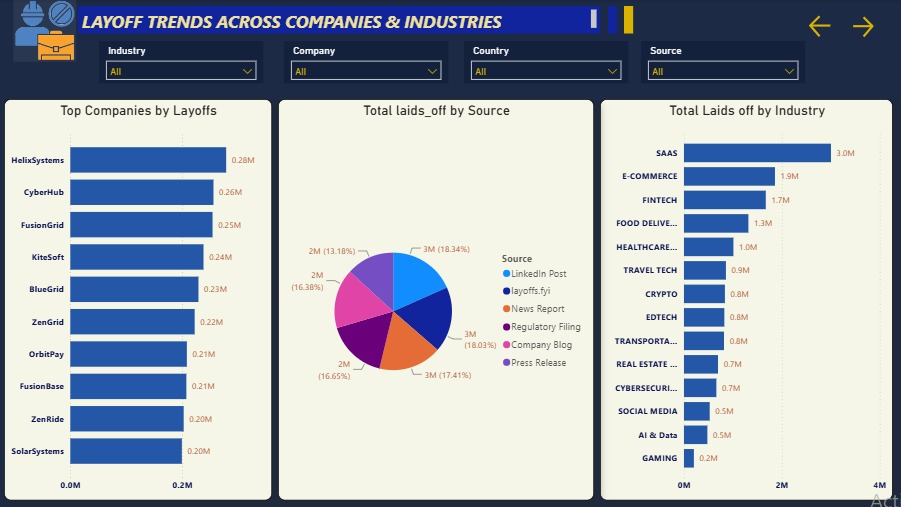

What the dashboard file says about the page in this screenshot:
{"tool":"powerbi","page":{"name":"PAGE 3","canvas":[1280,720],"ordinal":2},"visuals":[{"type":"clusteredBarChart","title":"Total Laids off by Industry","fields":{"Category":["tech_layoffs_dataset-1.Industry"],"Y":["tech_layoffs_dataset-1.Total laids_off"]},"box":[854.8,141.7,415.5,569.1],"z":0},{"type":"clusteredBarChart","title":"Top Companies by Layoffs","fields":{"Category":["tech_layoffs_dataset-1.Company"],"Y":["tech_layoffs_dataset-1.Total laids_off"]},"box":[9.5,141.7,379.8,569.1],"z":1000},{"type":"slicer","fields":{"Values":["tech_layoffs_dataset-1.Country"]},"box":[661.9,59.5,233.3,59.5],"z":2000},{"type":"slicer","fields":{"Values":["tech_layoffs_dataset-1.Company"]},"box":[407.1,59.5,233.3,59.5],"z":3000},{"type":"slicer","fields":{"Values":["tech_layoffs_dataset-1.Industry"]},"box":[145.2,59.5,233.3,59.5],"z":4000},{"type":"pieChart","fields":{"Category":["tech_layoffs_dataset-1.Source"],"Y":["tech_layoffs_dataset-1.Total laids_off"]},"box":[397.6,141.7,447.6,569.1],"z":5000},{"type":"slicer","fields":{"Values":["tech_layoffs_dataset-1.Source"]},"box":[913.1,59.5,233.3,59.5],"z":6000},{"type":"textbox","box":[114.3,9.5,740.5,39.3],"z":7000},{"type":"image","box":[21.4,0,92.9,89.3],"z":7001},{"type":"textbox","box":[866.7,9.5,13.1,39.3],"z":7002},{"type":"textbox","box":[888.1,9.5,13.1,39.3],"z":7003},{"type":"actionButton","box":[1207.1,20.2,63.1,39.3],"z":7004},{"type":"actionButton","box":[1146.4,19,60.7,40.5],"z":7005}]}

Visuals, with their boxes in screenshot pixels (x1, y1, x2, y2), scaled from the page's 1280x720 canvas onto the 901x507 screenshot:
"Total Laids off by Industry" clusteredBarChart: <box>602,100,894,501</box>
"Top Companies by Layoffs" clusteredBarChart: <box>7,100,274,501</box>
slicer - tech_layoffs_dataset-1.Country: <box>466,42,630,84</box>
slicer - tech_layoffs_dataset-1.Company: <box>287,42,451,84</box>
slicer - tech_layoffs_dataset-1.Industry: <box>102,42,266,84</box>
pieChart - tech_layoffs_dataset-1.Source x tech_layoffs_dataset-1.Total laids_off: <box>280,100,595,501</box>
slicer - tech_layoffs_dataset-1.Source: <box>643,42,807,84</box>
textbox: <box>80,7,602,34</box>
image: <box>15,0,80,63</box>
textbox: <box>610,7,619,34</box>
textbox: <box>625,7,634,34</box>
actionButton: <box>850,14,894,42</box>
actionButton: <box>807,13,850,42</box>
